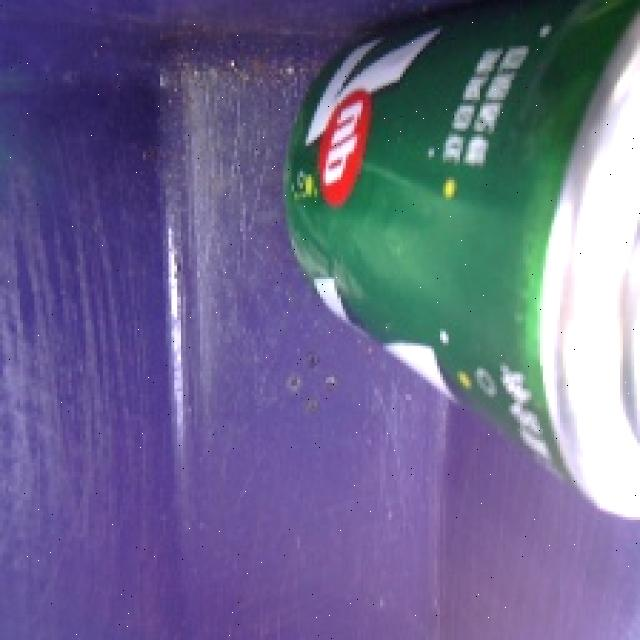metal: (267, 0, 640, 538)
